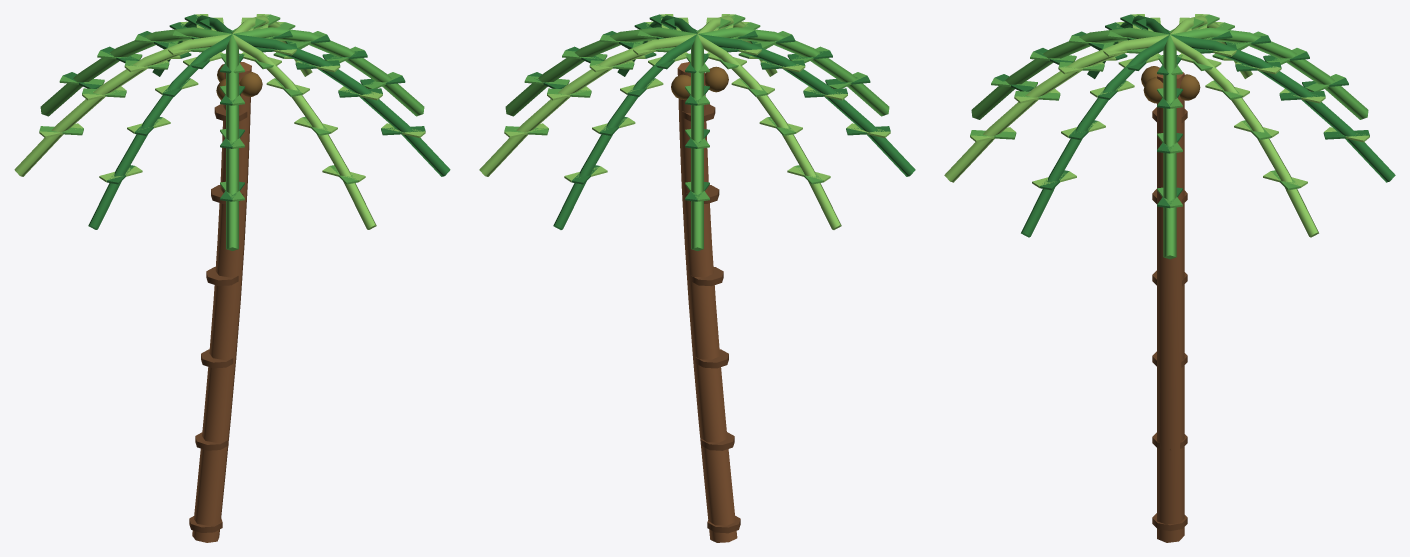
Rendered from palm_tree.glb.
3 renders of one model, left to right at view 1: azimuth 30°, elevation 25°; view 2: azimuth 150°, elevation 25°; view 3: azimuth 270°, elevation 25°, orthographic. The views are drawn at different scales.
Visible parts, largest first — view 1: root; view 2: root; view 3: root.
Boxes of the visible parts, x1=… form: root: x1=14, y1=14, x2=450, y2=542; root: x1=479, y1=14, x2=915, y2=542; root: x1=944, y1=14, x2=1395, y2=542.
Size of the model in its own units: 3.37 by 4.31 by 3.42.
